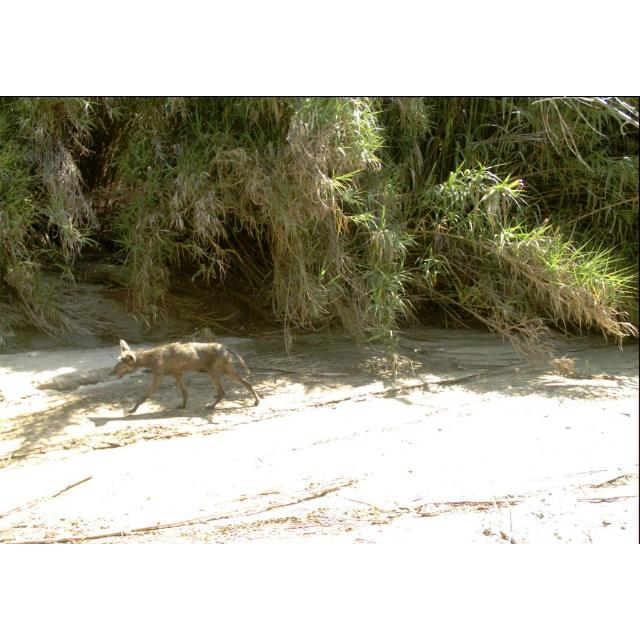animals: (111, 337, 262, 415)
